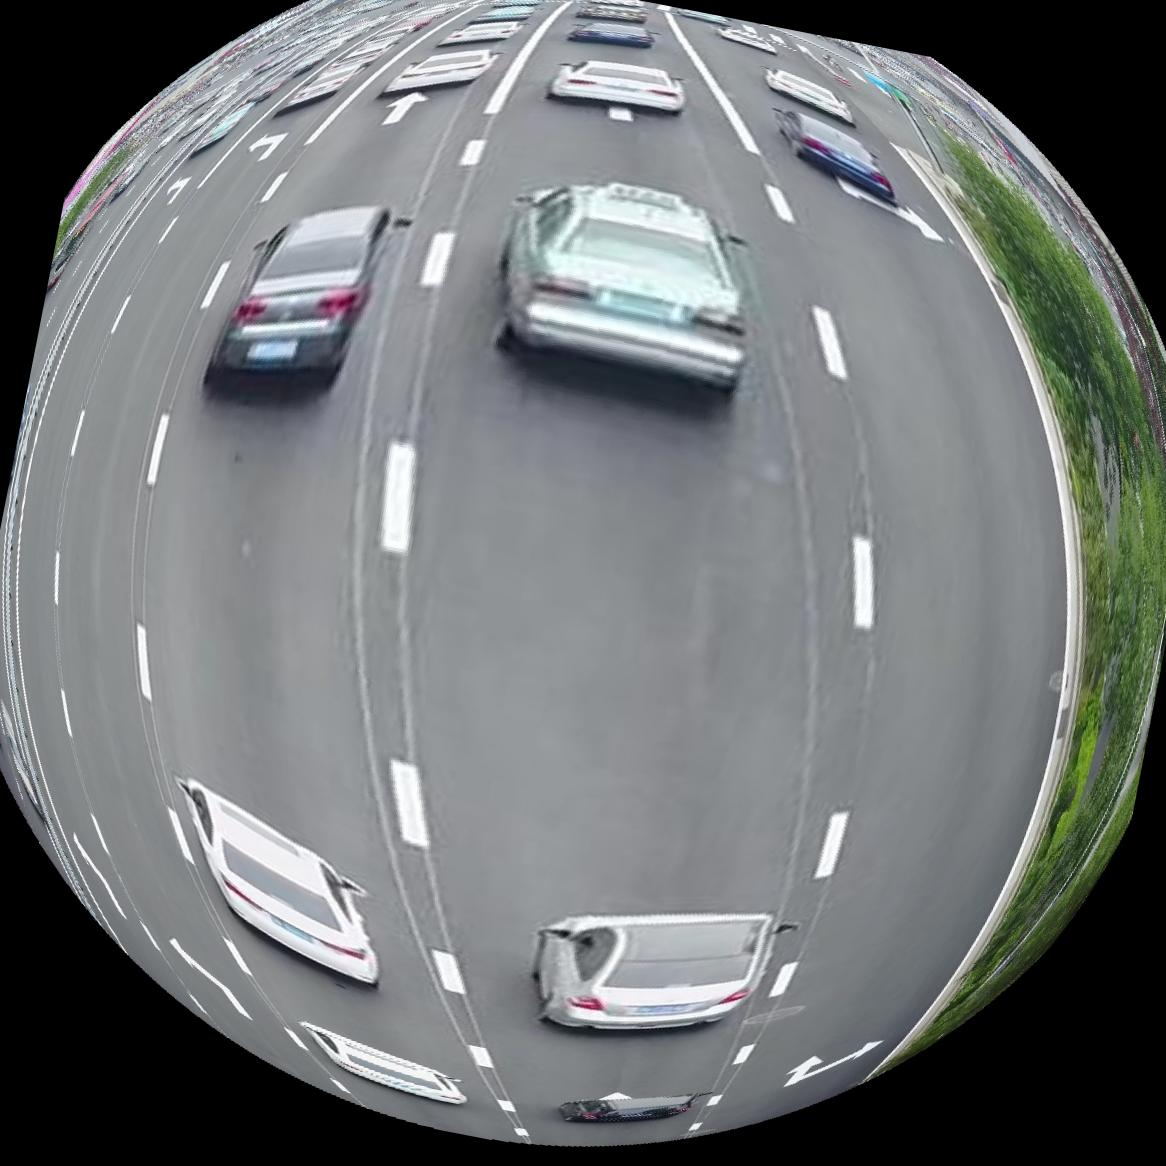cars: (501, 180, 746, 391), (176, 779, 378, 987), (209, 204, 393, 375), (534, 915, 774, 1031), (298, 1025, 466, 1106), (775, 111, 899, 204), (548, 59, 686, 112), (381, 47, 497, 92), (766, 68, 852, 122), (558, 1099, 700, 1124), (192, 100, 254, 152), (569, 19, 656, 46), (440, 18, 522, 44)
trees: (891, 130, 1166, 1062)
